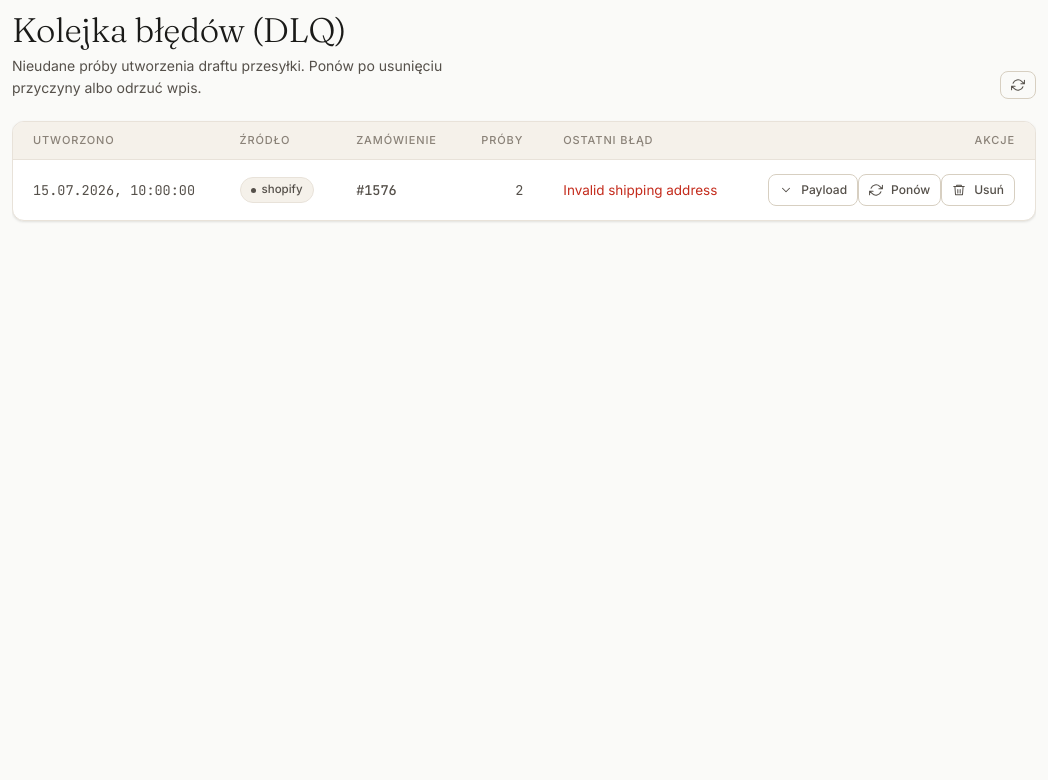
Test case: DlqView › shows a safe Polish message when retry fails
The width and height of the screenshot is (1048, 780).
Check: the text "#1576" is shown, box [336,159,460,220]
Click the button "Ponów": click(900, 190) [858,174,941,206]
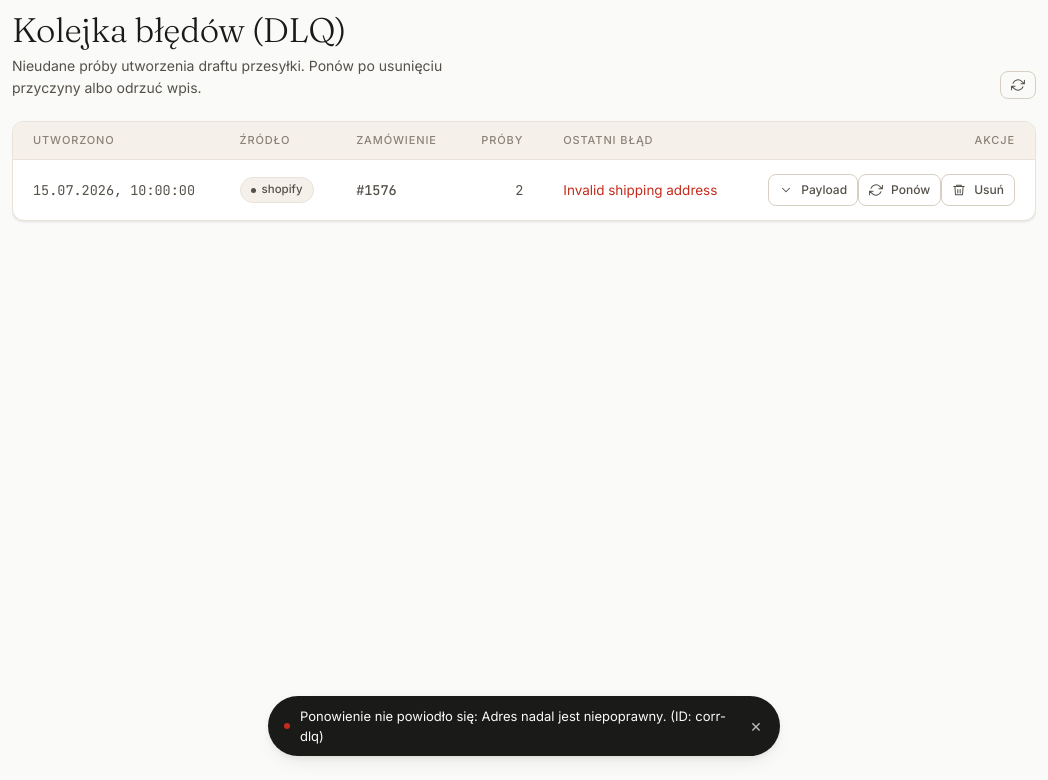
Check: the text "corr-dlq" is shown, box [300,708,726,744]
